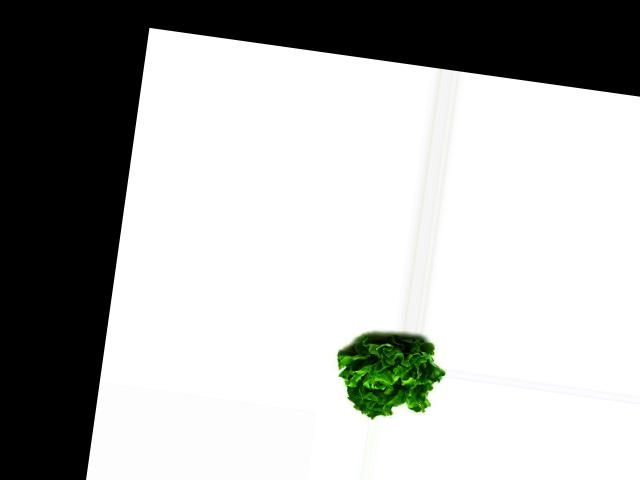lettuce: (332, 325, 448, 427)
